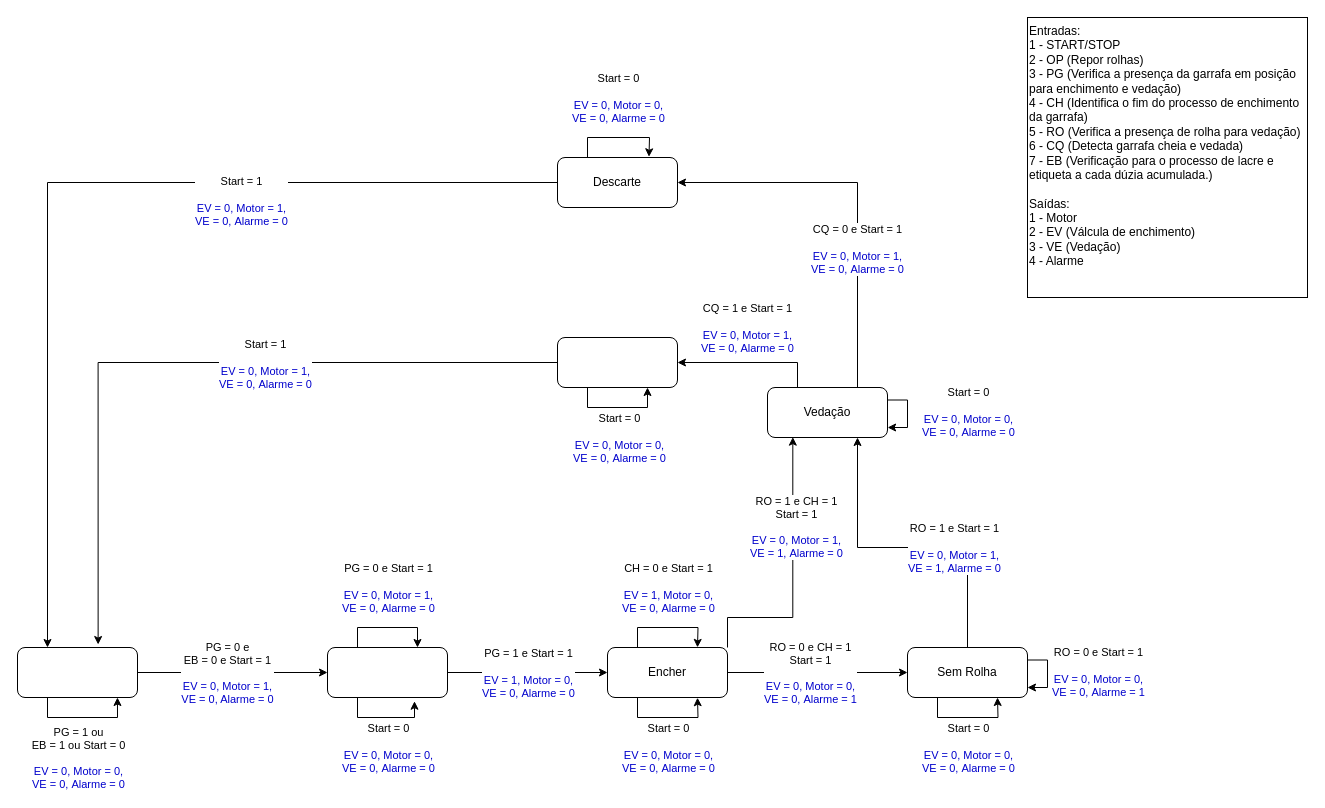
Image size: 1325x808. Some labels were removed from this diagram. Each missing label, with the centre of its shape:
"Início" goes at pixel 77 672.
"Lacre" goes at pixel 617 362.
"Preparação" goes at pixel 387 672.
